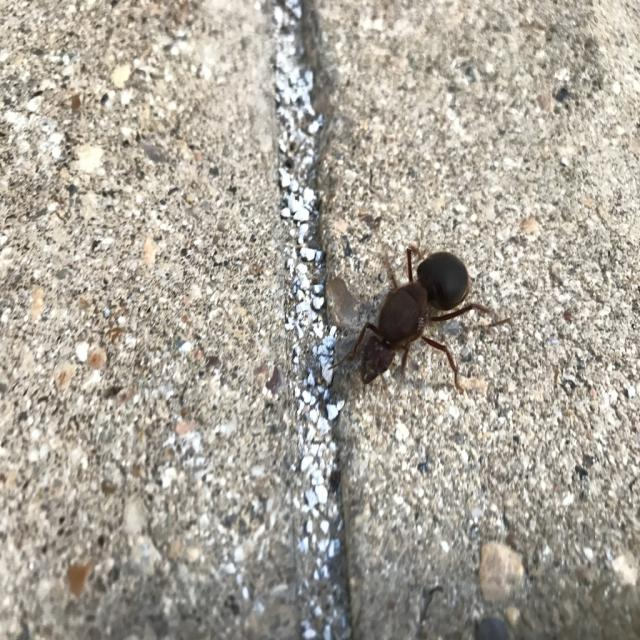Alive-Female-Dealate: (328, 242, 491, 394)
